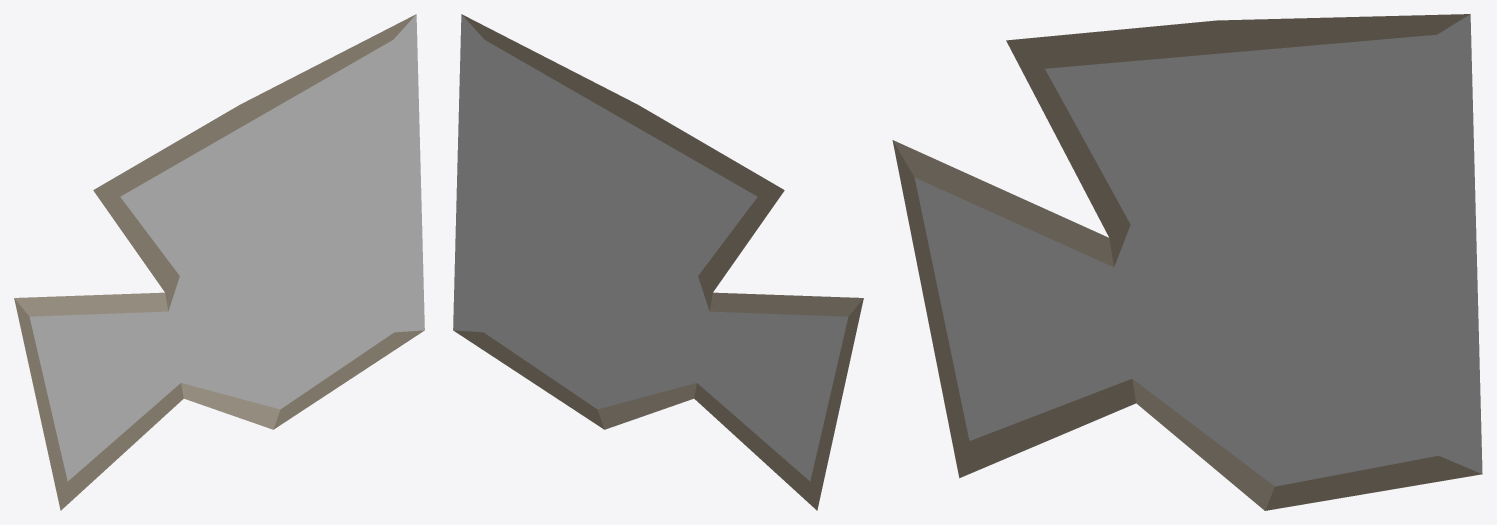
File: ShellRiddlesPuzzlePieceE.glb
The picture shows the model from 3 angles, left to right: view 1: azimuth 30°, elevation 25°; view 2: azimuth 150°, elevation 25°; view 3: azimuth 330°, elevation 25°; orthographic projection. The views are drawn at different scales.
Parts seen in each view (by area): view 1: ShellRiddlesPuzzlePieceE; view 2: ShellRiddlesPuzzlePieceE; view 3: ShellRiddlesPuzzlePieceE.
Part boxes in pixels (bbox=[...]): ShellRiddlesPuzzlePieceE: bbox=[14, 14, 424, 510]; ShellRiddlesPuzzlePieceE: bbox=[453, 14, 863, 510]; ShellRiddlesPuzzlePieceE: bbox=[892, 14, 1482, 510].
Bounding box in the file's own units: 0.4943 × 0.4715 × 0.
